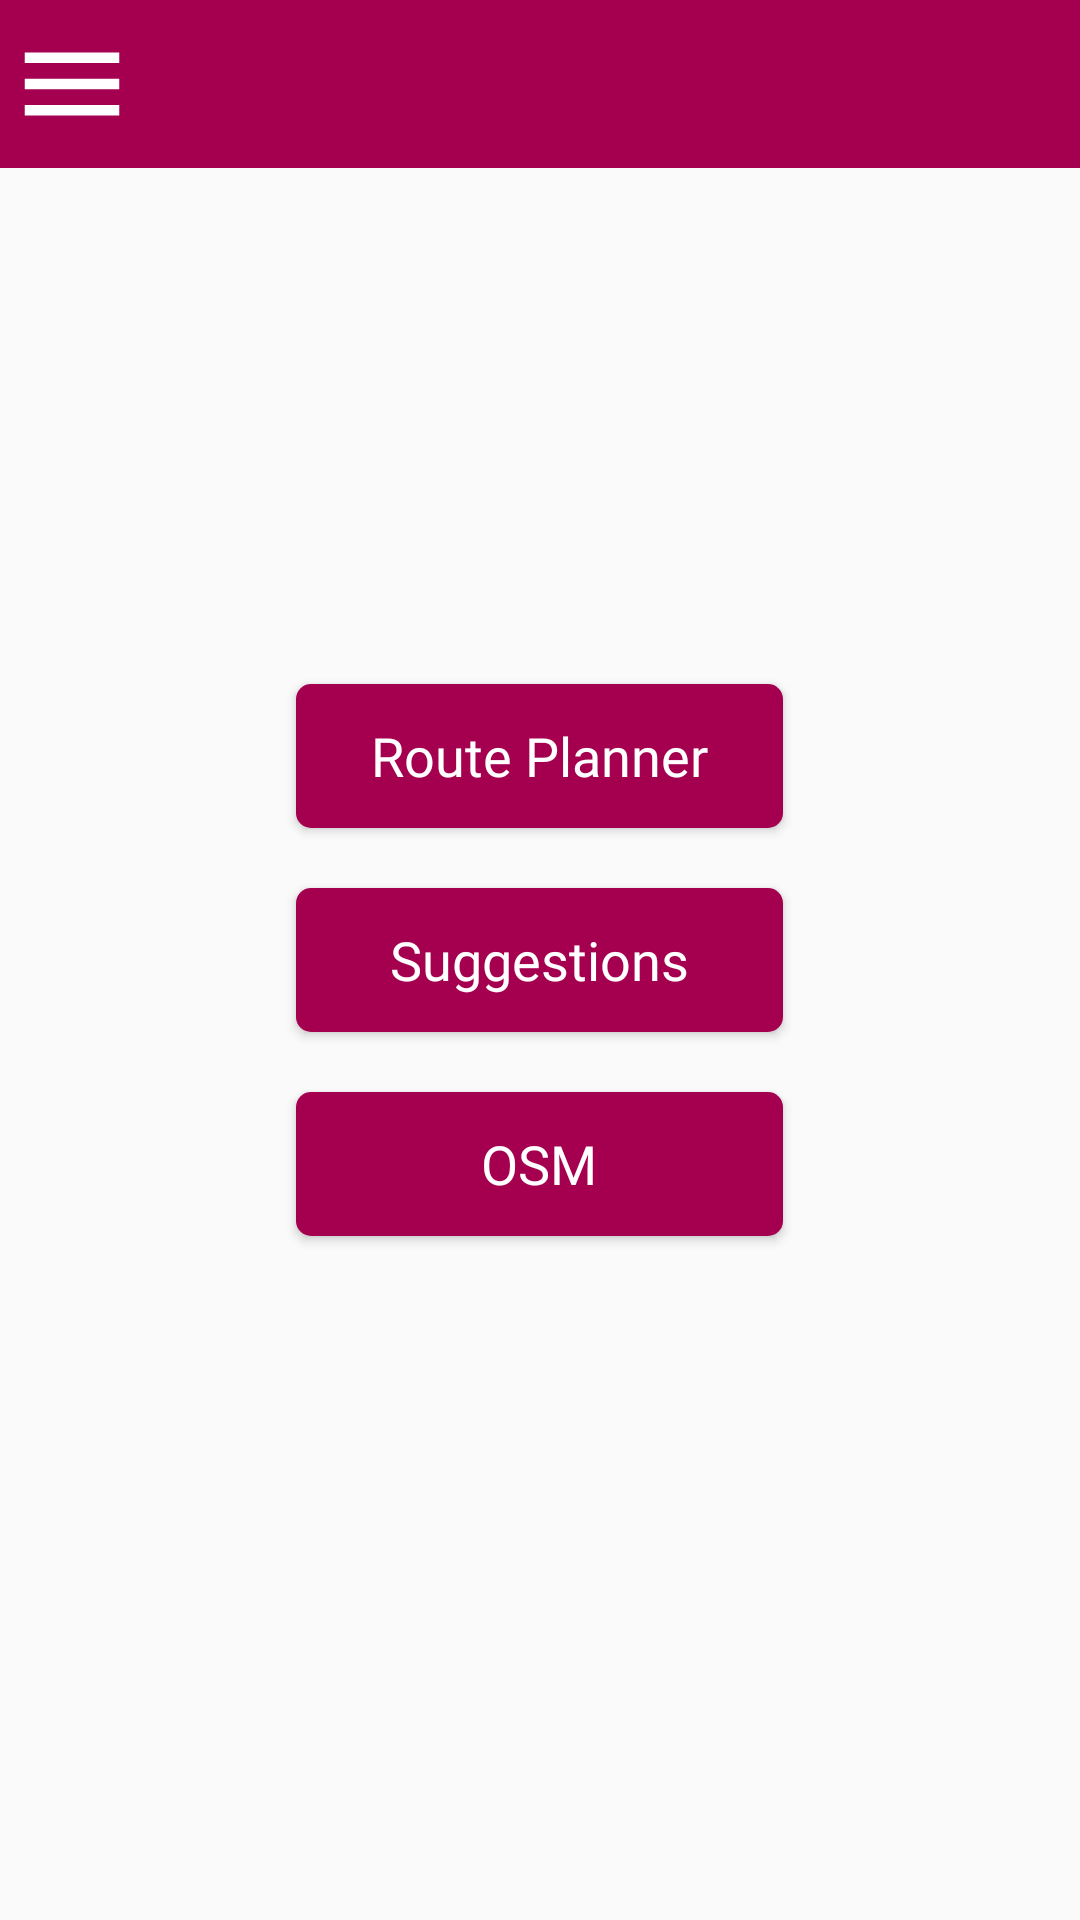

Where to tap for icons on this 1080 × 1920 app screen, as point (x, y):
ham: point (72, 84)
